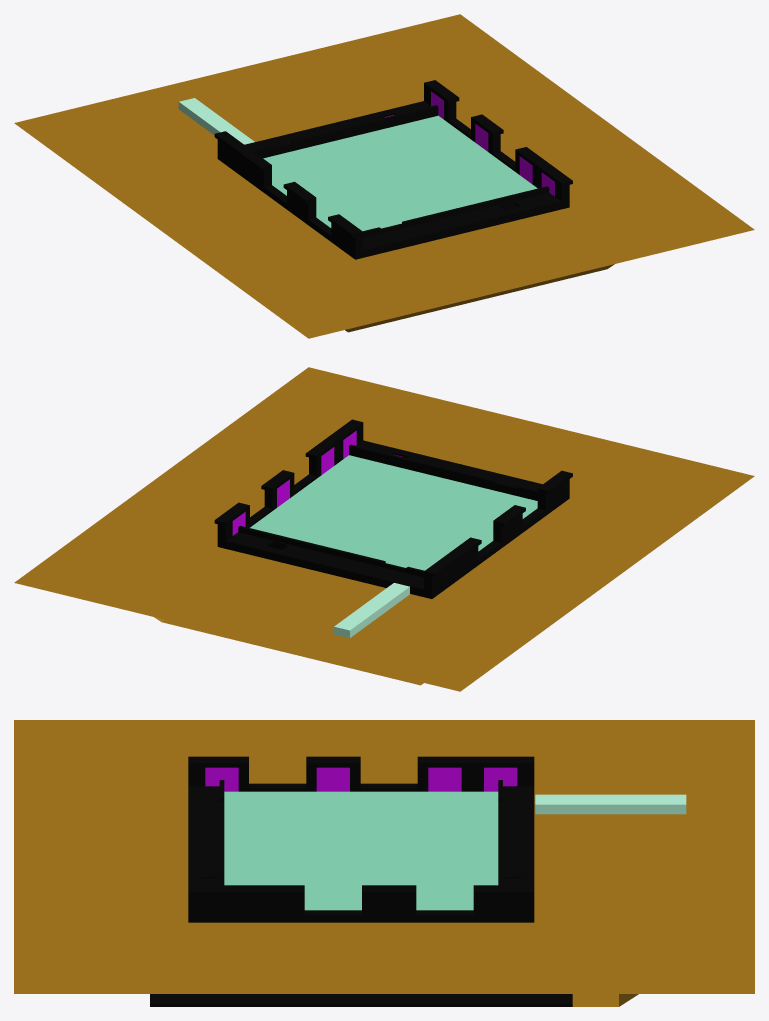
3 renders of one model, top to bottom at view 1: azimuth 30°, elevation 25°; view 2: azimuth 150°, elevation 25°; view 3: azimuth 270°, elevation 25°, orthographic. The views are drawn at different scales.
Size of the model in its own units: 27.9 by 4.9 by 31.9.
